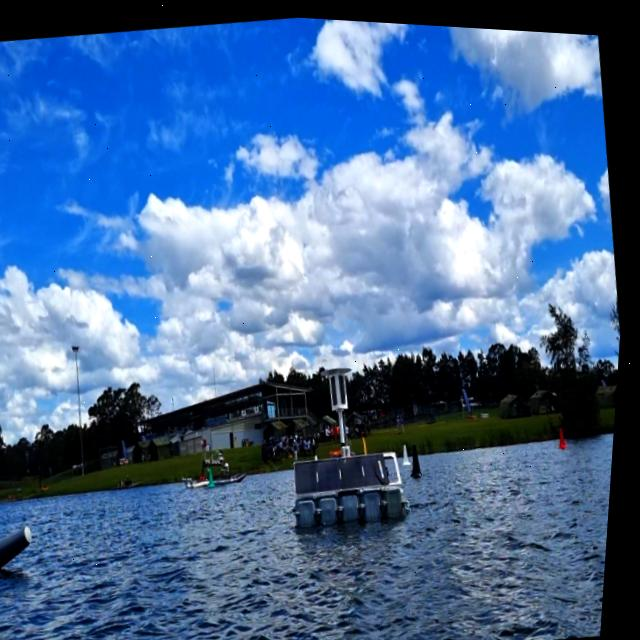led: (340, 368, 354, 403), (333, 370, 346, 402)
